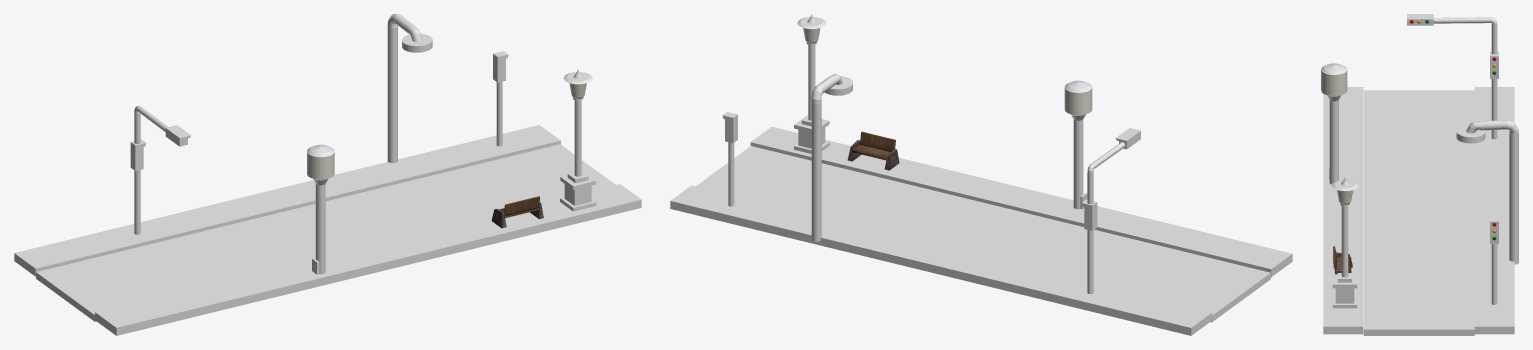
Rendered from streetpack2.fbx.
3 renders of one model, left to right at view 1: azimuth 30°, elevation 25°; view 2: azimuth 150°, elevation 25°; view 3: azimuth 270°, elevation 25°, orthographic. The views are drawn at different scales.
Visible parts, largest first — view 1: Cube, sideWalk2, sideWalk, streetLight2, streetLight1, streetLight3, bigTrafficLight, trafficLight, bank; view 2: Cube, sideWalk, sideWalk2, streetLight2, streetLight3, streetLight1, bigTrafficLight, bank, trafficLight; view 3: Cube, sideWalk, sideWalk2, streetLight2, streetLight1, streetLight3, bigTrafficLight, trafficLight, bank.
Boxes of the visible parts, box(x1,y1,x2,y2) form: Cube: box(36, 144, 615, 321); sideWalk2: box(95, 184, 641, 335); sideWalk: box(14, 125, 560, 276); streetLight2: box(387, 14, 432, 162); streetLight1: box(560, 69, 596, 211); streetLight3: box(307, 144, 334, 274); bigTrafficLight: box(130, 105, 190, 234); trafficLight: box(493, 51, 508, 146); bank: box(491, 196, 543, 228); Cube: box(696, 146, 1270, 322); sideWalk: box(670, 185, 1212, 335); sideWalk2: box(750, 126, 1292, 277); streetLight2: box(811, 73, 852, 241); streetLight3: box(1064, 80, 1092, 209); streetLight1: box(794, 14, 829, 153); bigTrafficLight: box(1081, 128, 1140, 294); bank: box(847, 131, 899, 170); trafficLight: box(722, 112, 737, 206); Cube: box(1363, 90, 1474, 335); sideWalk: box(1474, 87, 1514, 334); sideWalk2: box(1323, 87, 1363, 334); streetLight2: box(1456, 120, 1518, 264); streetLight1: box(1331, 177, 1358, 308); streetLight3: box(1321, 63, 1347, 184); bigTrafficLight: box(1407, 14, 1498, 139); trafficLight: box(1490, 216, 1498, 304); bank: box(1333, 246, 1352, 274).
Size of the model in its own units: 1022 by 296 by 356.
